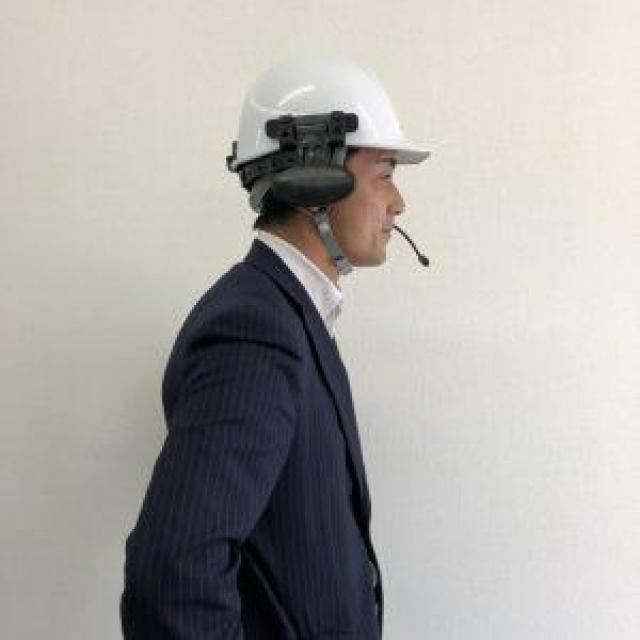helmet: (232, 51, 431, 171)
